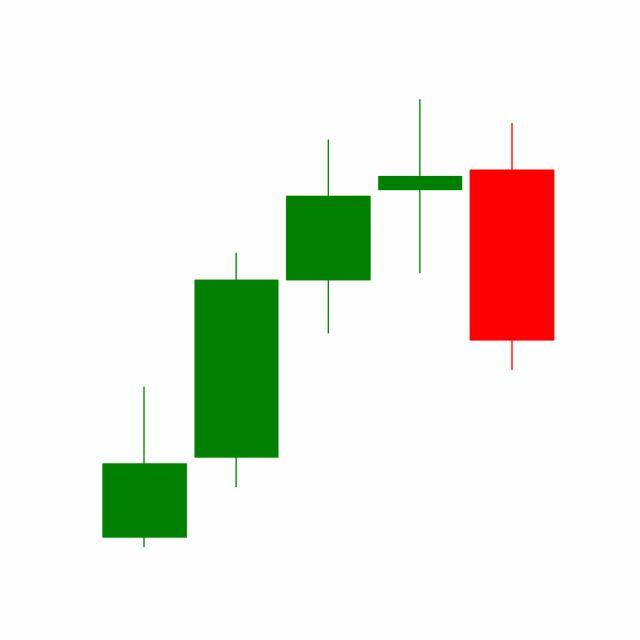Evening Doji Star: (280, 99, 555, 375)
